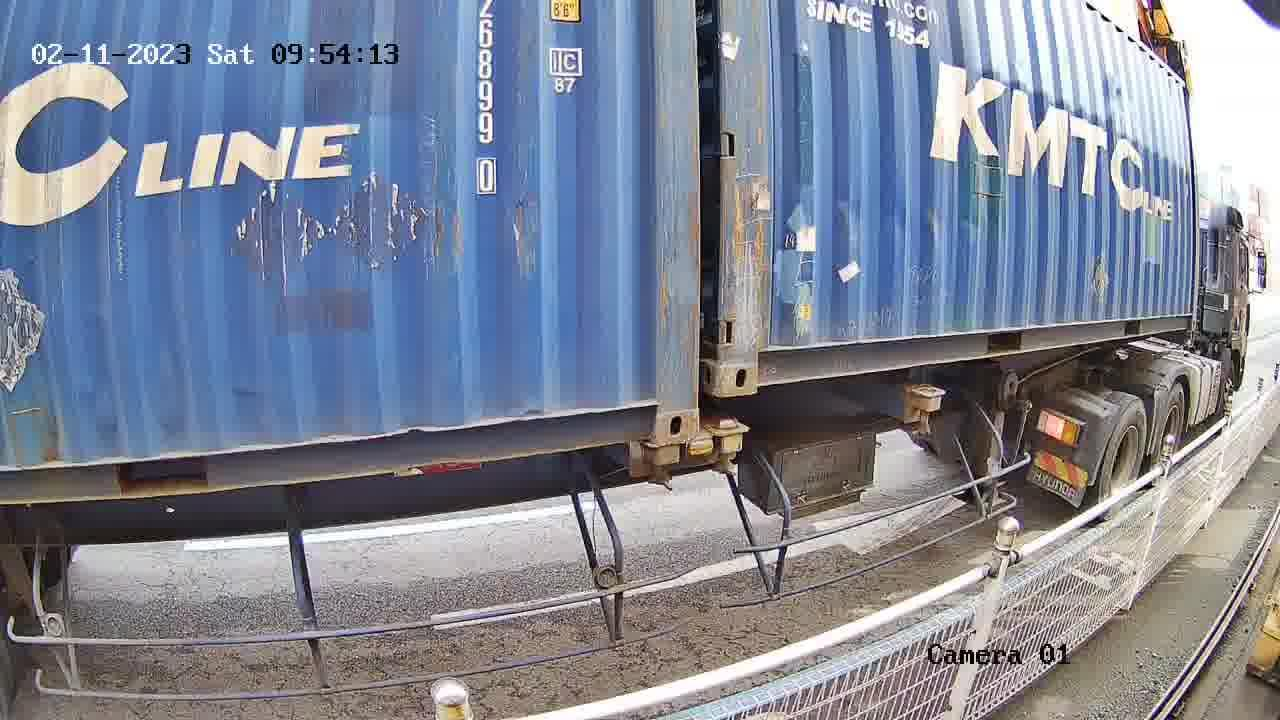Cone: (709, 416, 750, 481), (642, 449, 681, 493)
Hole_L: (717, 322, 793, 397)
Hole_R: (612, 374, 698, 453)
Tire: (1098, 402, 1147, 519), (1154, 385, 1185, 480)
